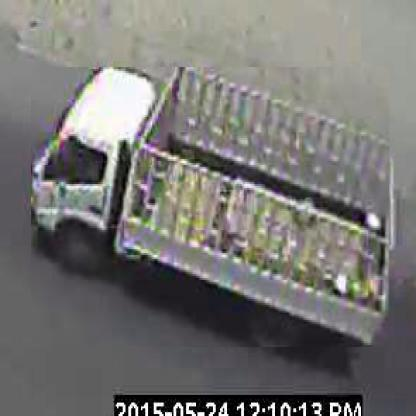truck: (32, 68, 392, 350)
